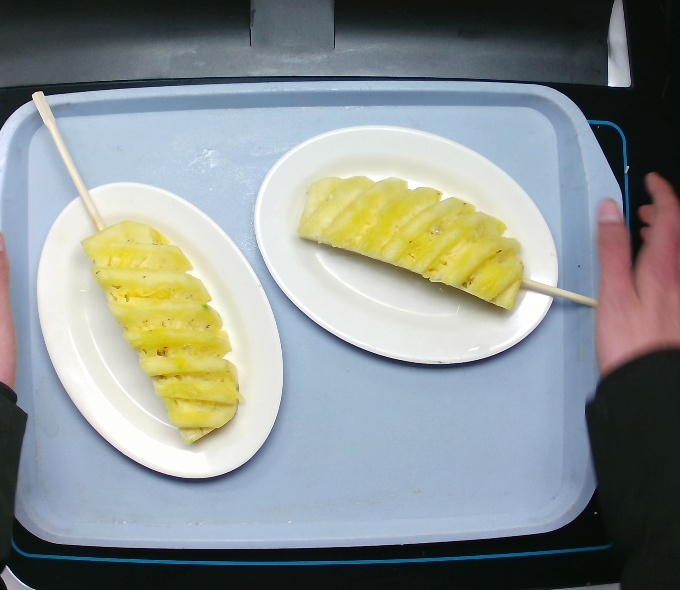wcq-BoLuo: (55, 216, 256, 453), (292, 161, 534, 330)
